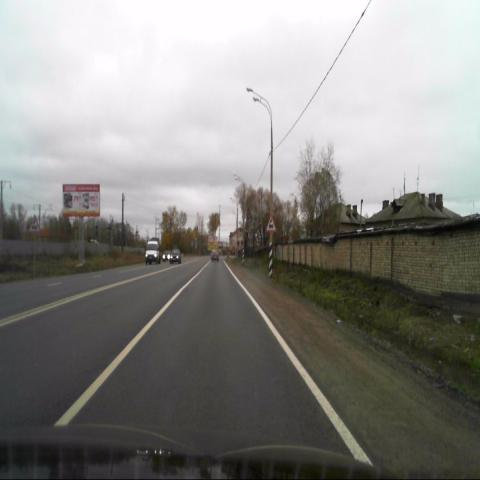1_2: (265, 214, 276, 232)
